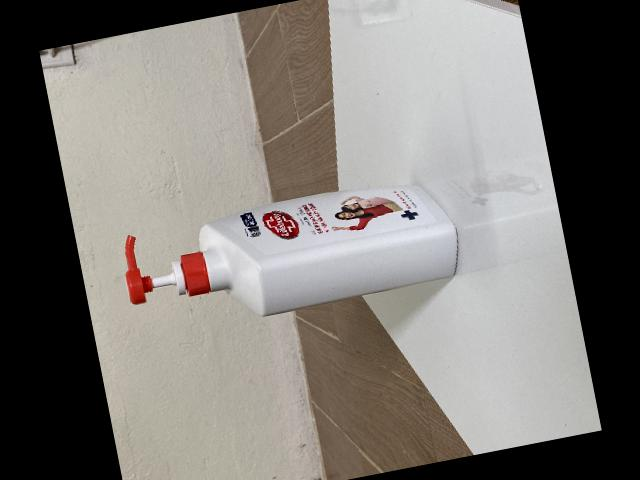life-buoy: (125, 183, 459, 315)
